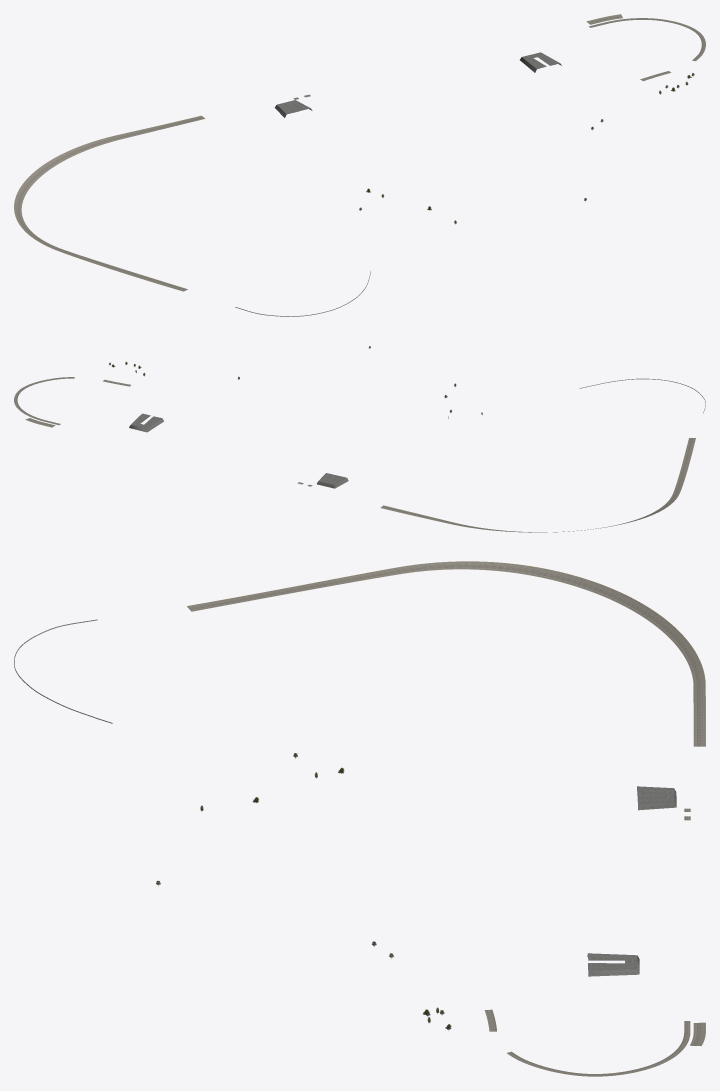
The picture shows the model from 3 angles, top to bottom: view 1: azimuth 30°, elevation 25°; view 2: azimuth 150°, elevation 25°; view 3: azimuth 270°, elevation 25°; orthographic projection. The views are drawn at different scales.
Parts seen in each view (by area): view 1: highspeedring2_2; view 2: highspeedring2_2; view 3: highspeedring2_2.
Boxes of the visible parts, box(x1,y1,x2,y2) form: highspeedring2_2: box(14, 14, 705, 316); highspeedring2_2: box(14, 346, 705, 532); highspeedring2_2: box(14, 561, 705, 1076).
Size of the model in its own units: 1462 by 23.49 by 835.
Materials: 7 (7 with a texture image).
